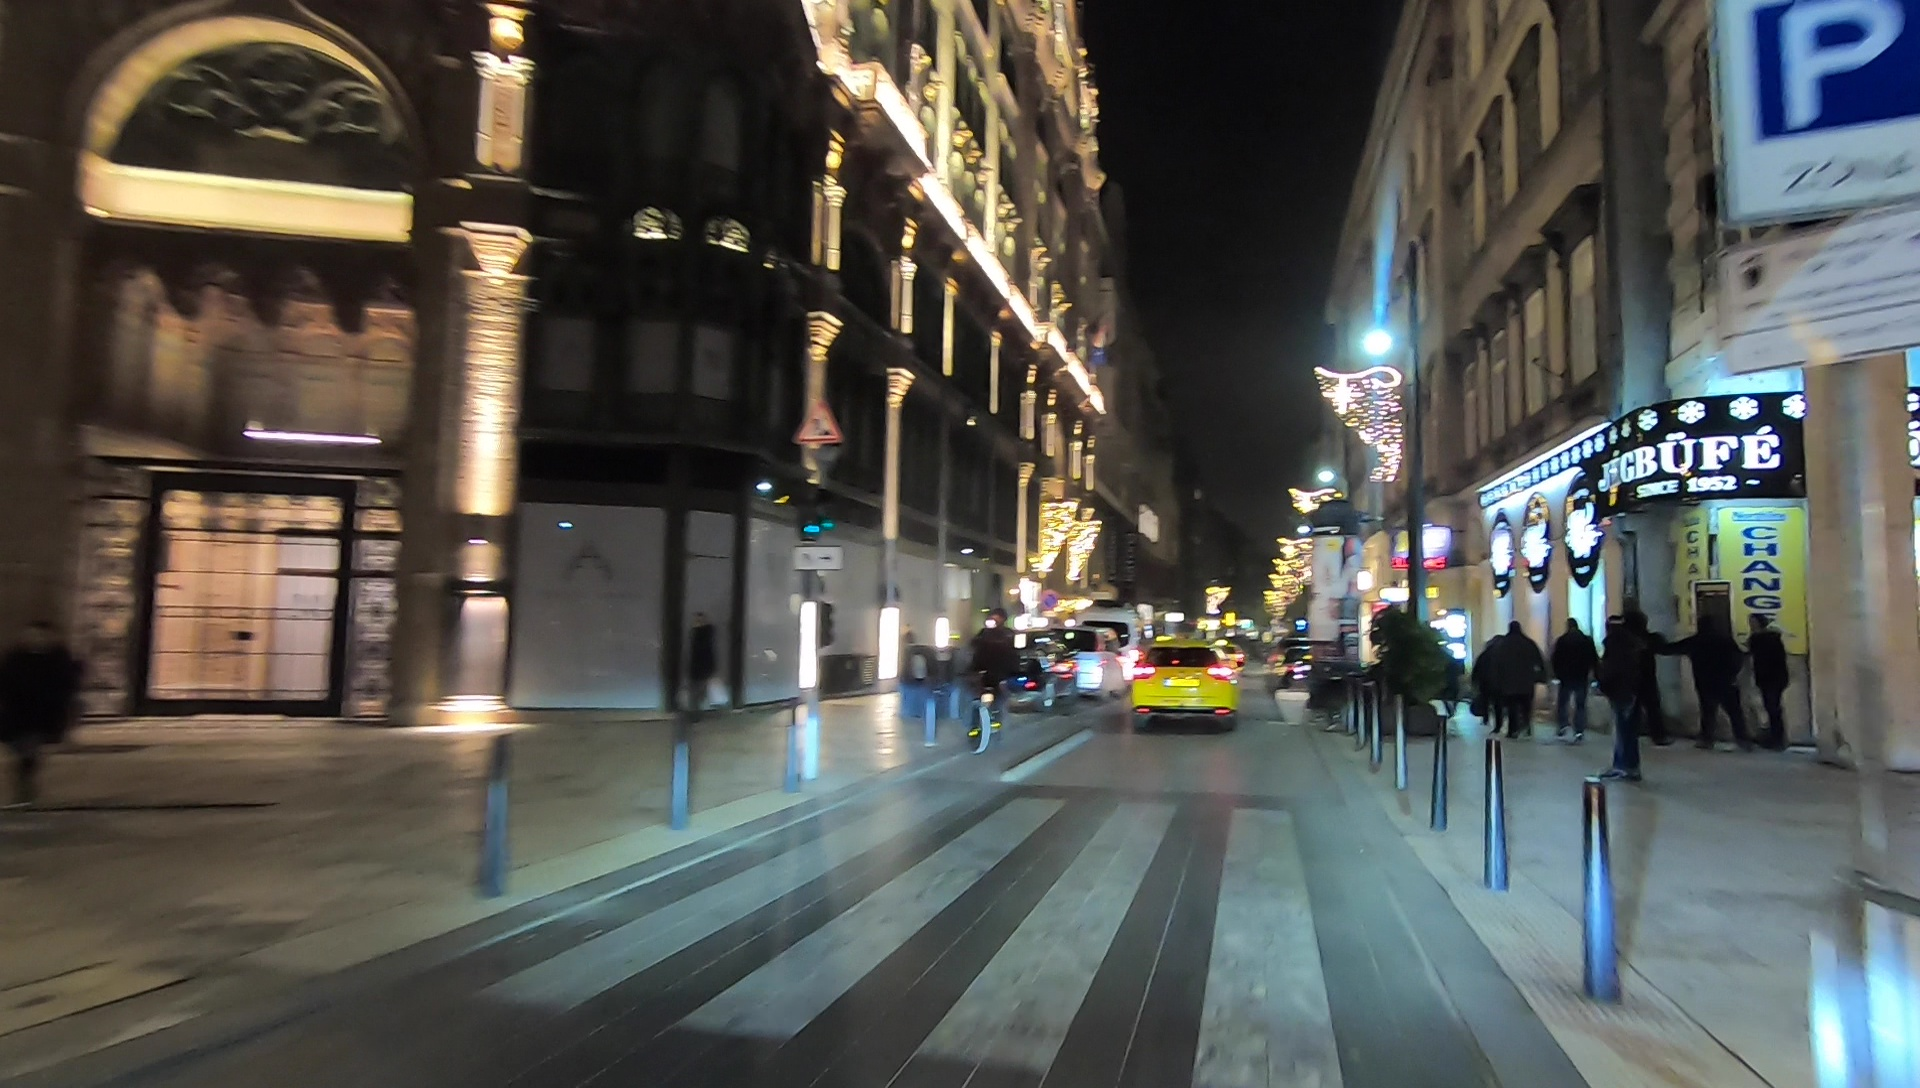person: (4, 623, 59, 809), (1688, 614, 1750, 754), (1600, 611, 1644, 786), (1742, 614, 1789, 749), (1553, 618, 1594, 741), (1504, 622, 1543, 737), (1474, 634, 1509, 738), (685, 609, 714, 722)
